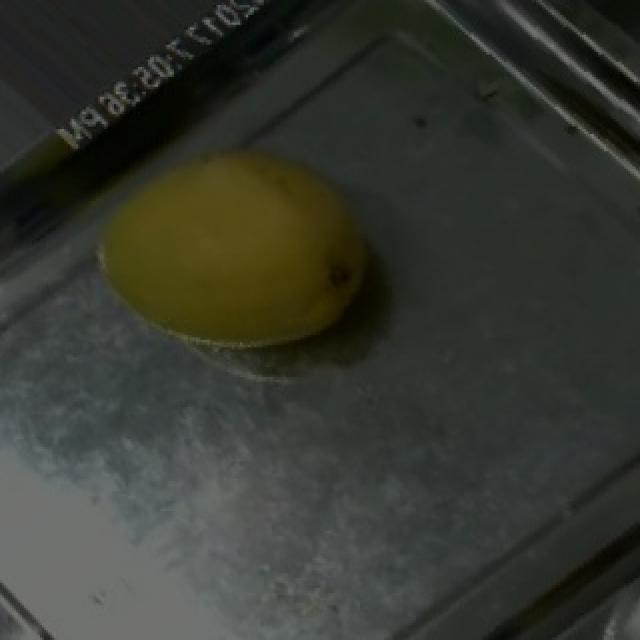fruit: (54, 99, 402, 412)
